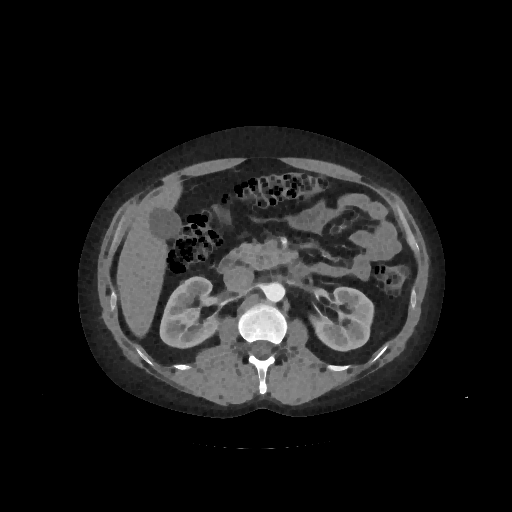Lesion: (178, 279, 188, 287)
